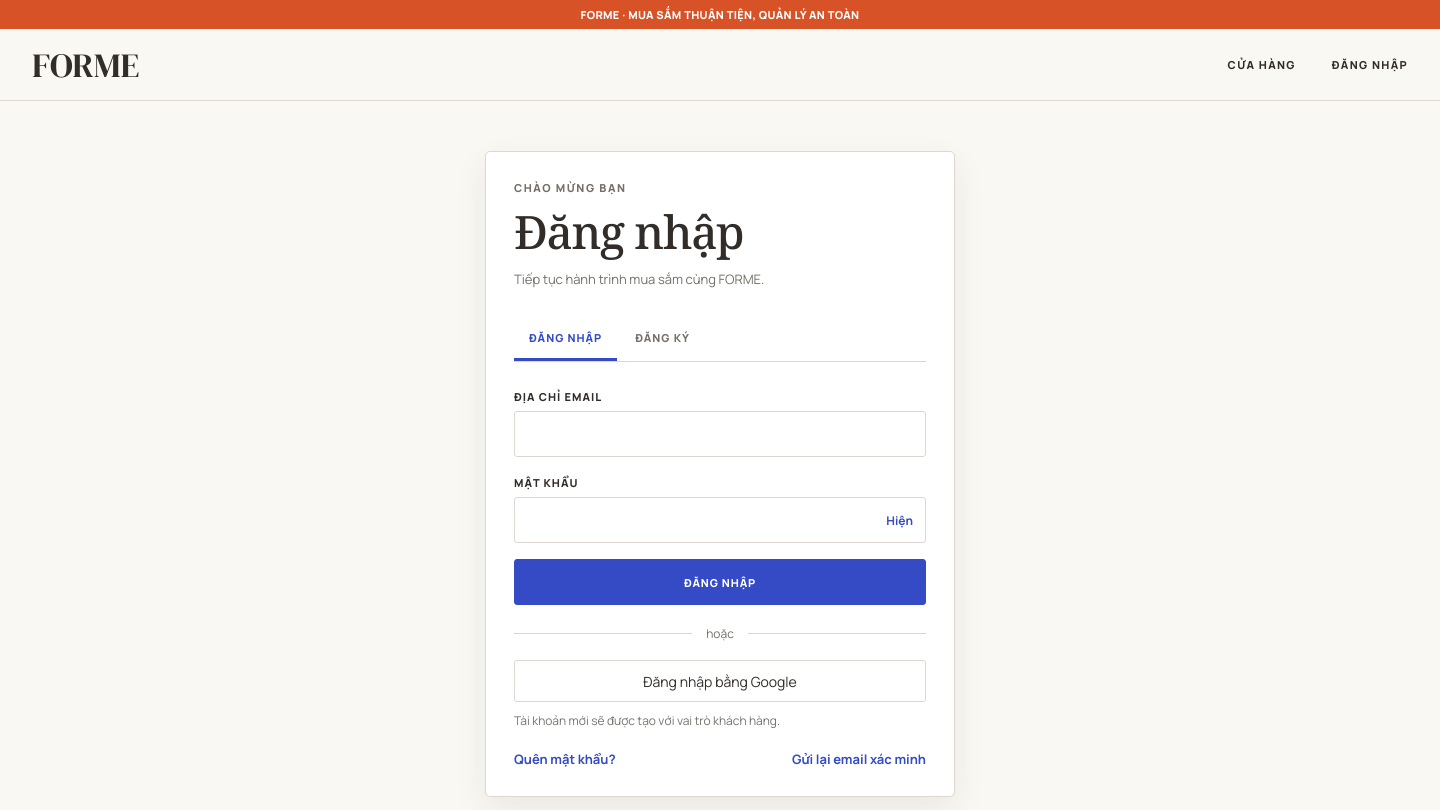
it: App › switches from sign in to registration
The image size is (1440, 810).
Click the tab "ĐĂNG KÝ".
click(663, 339)  # box x1=620 y1=317 x2=705 y2=361
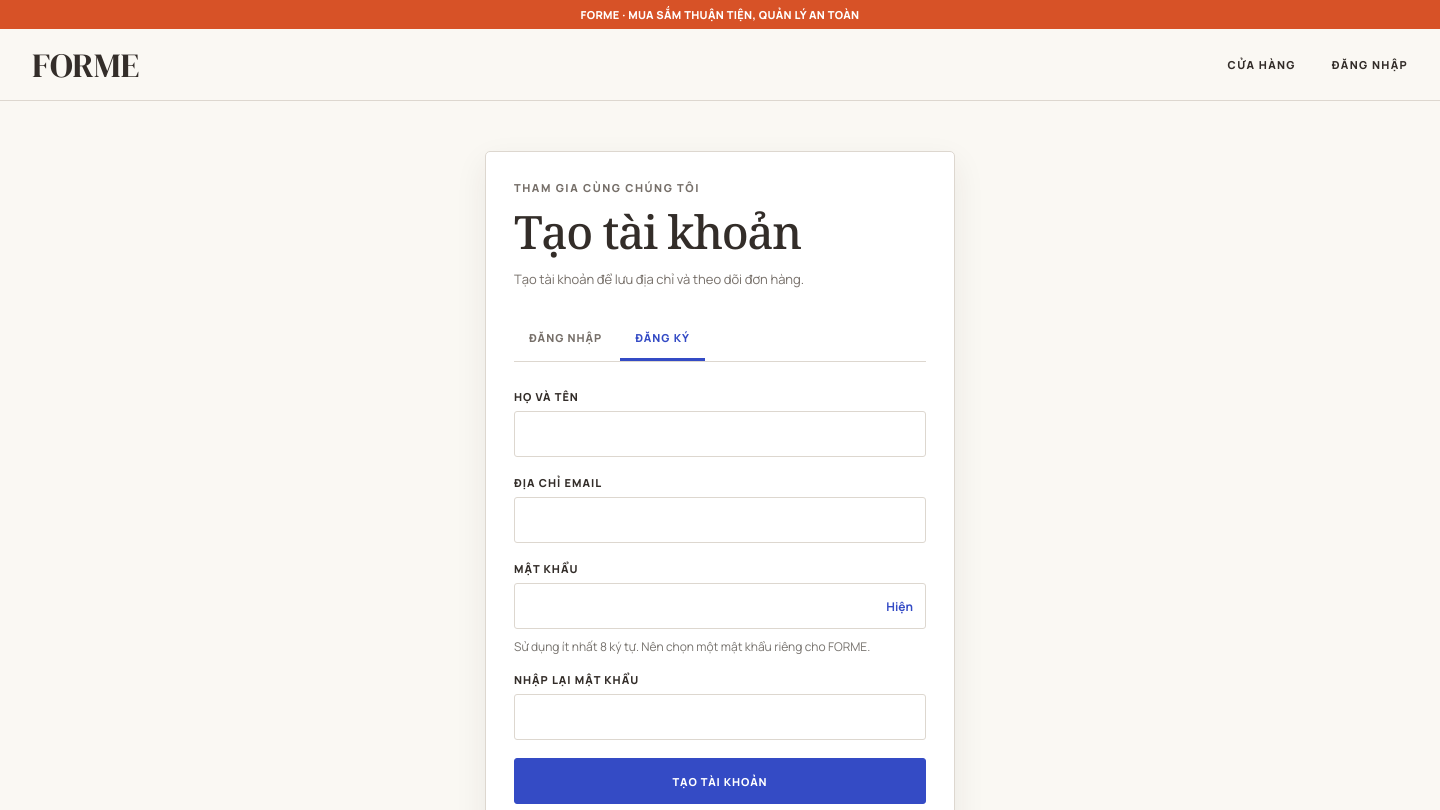
Expected: the field labelled "HỌ VÀ TÊN" is shown, x1=514 y1=411 x2=926 y2=457
Expected: the heading "Tạo tài khoản" is shown, x1=514 y1=200 x2=801 y2=262
Expected: the password field labelled "NHẬP LẠI MẬT KHẨU" is shown, x1=514 y1=694 x2=926 y2=740
